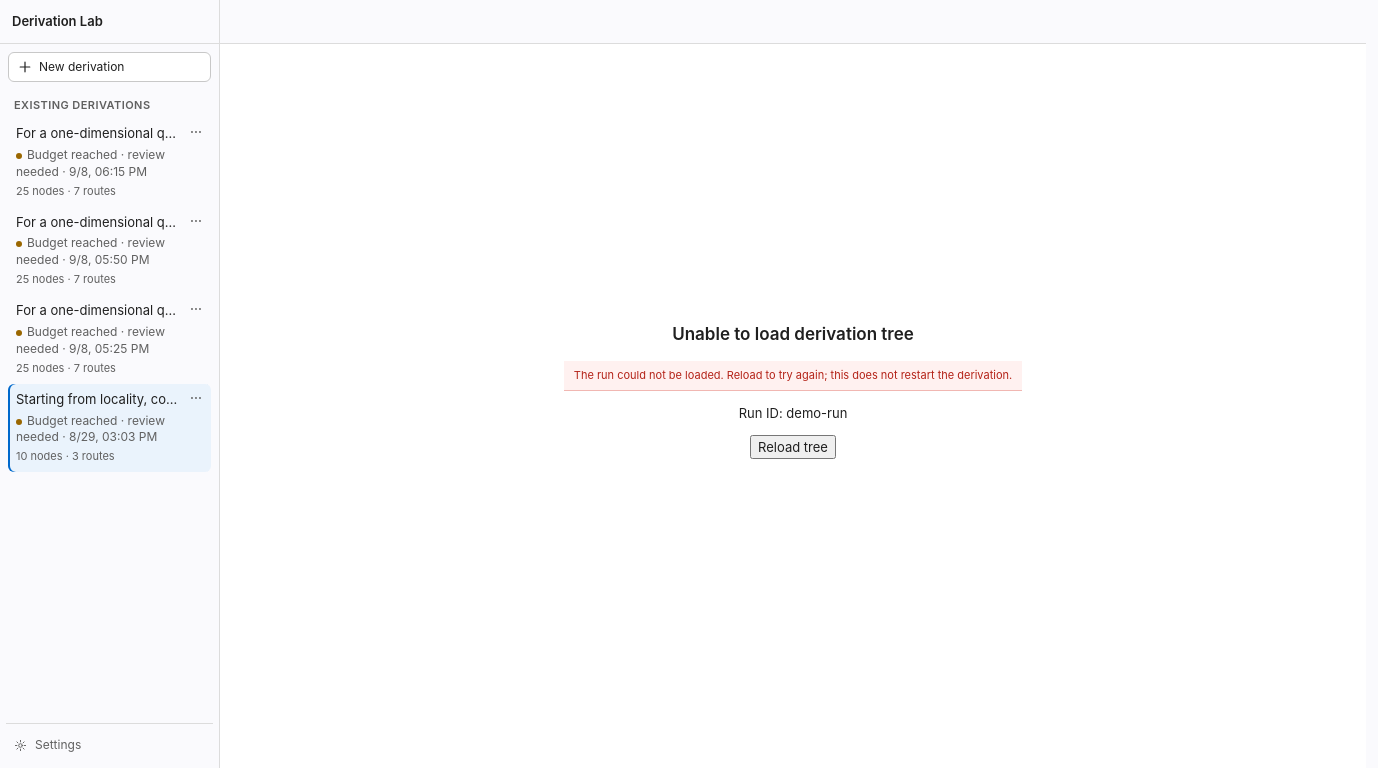
tree-first derivation UI › offers safe detail reload after a failed read
Expected: the text "Run ID: demo-run" is shown, [739, 404, 847, 422]
Click the button "Reload tree" at (793, 447), box [750, 435, 836, 459]
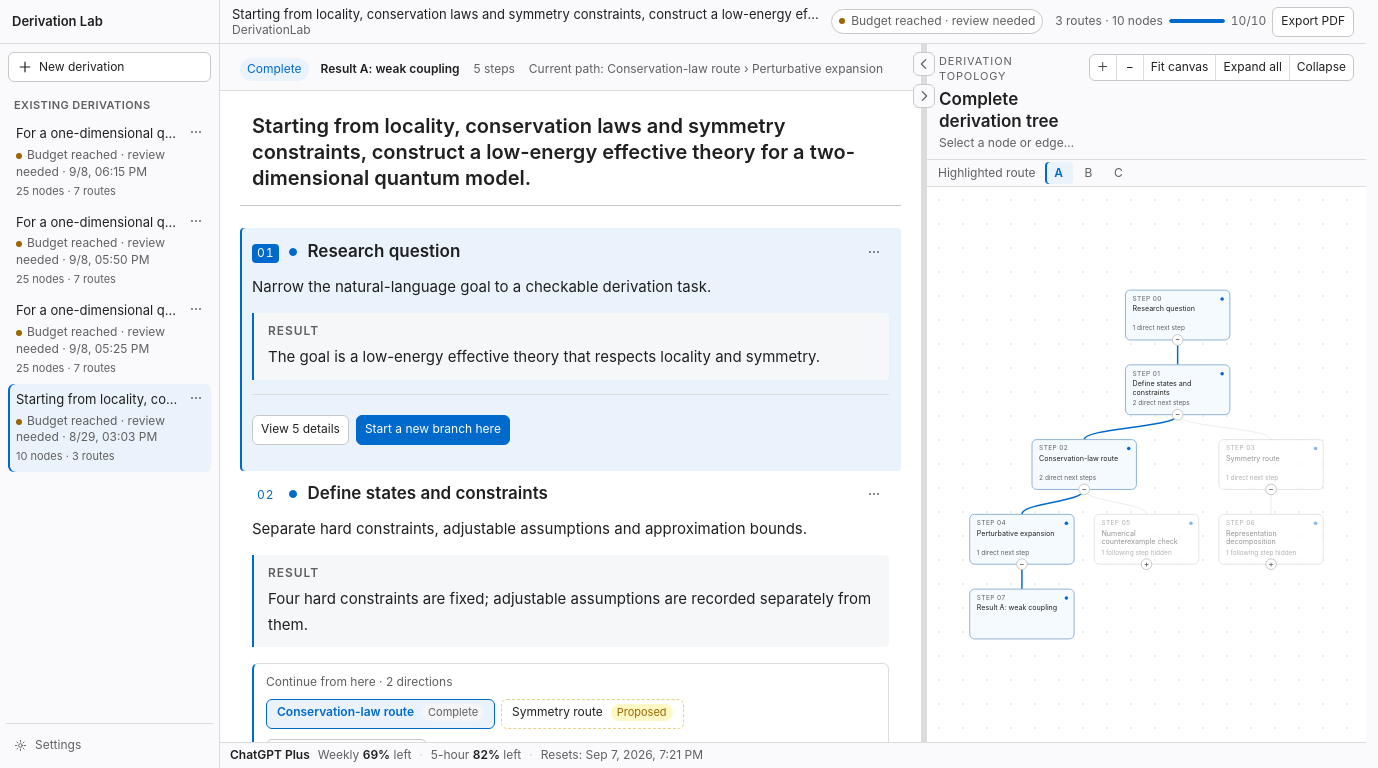
Expected: the heading "Complete derivation tree" is shown, [939, 88, 1077, 132]
